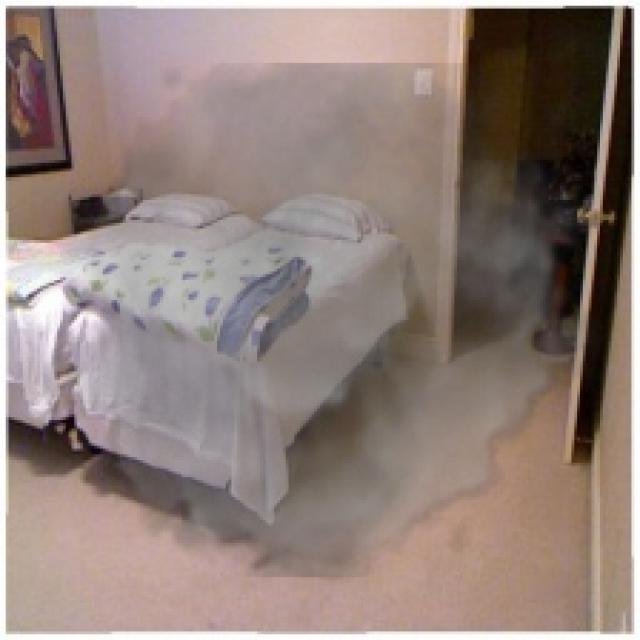smoke: (43, 63, 611, 577)
